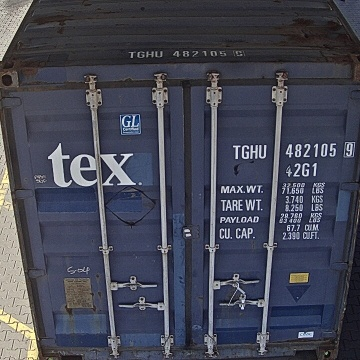serial_id: (233, 141, 355, 158)
